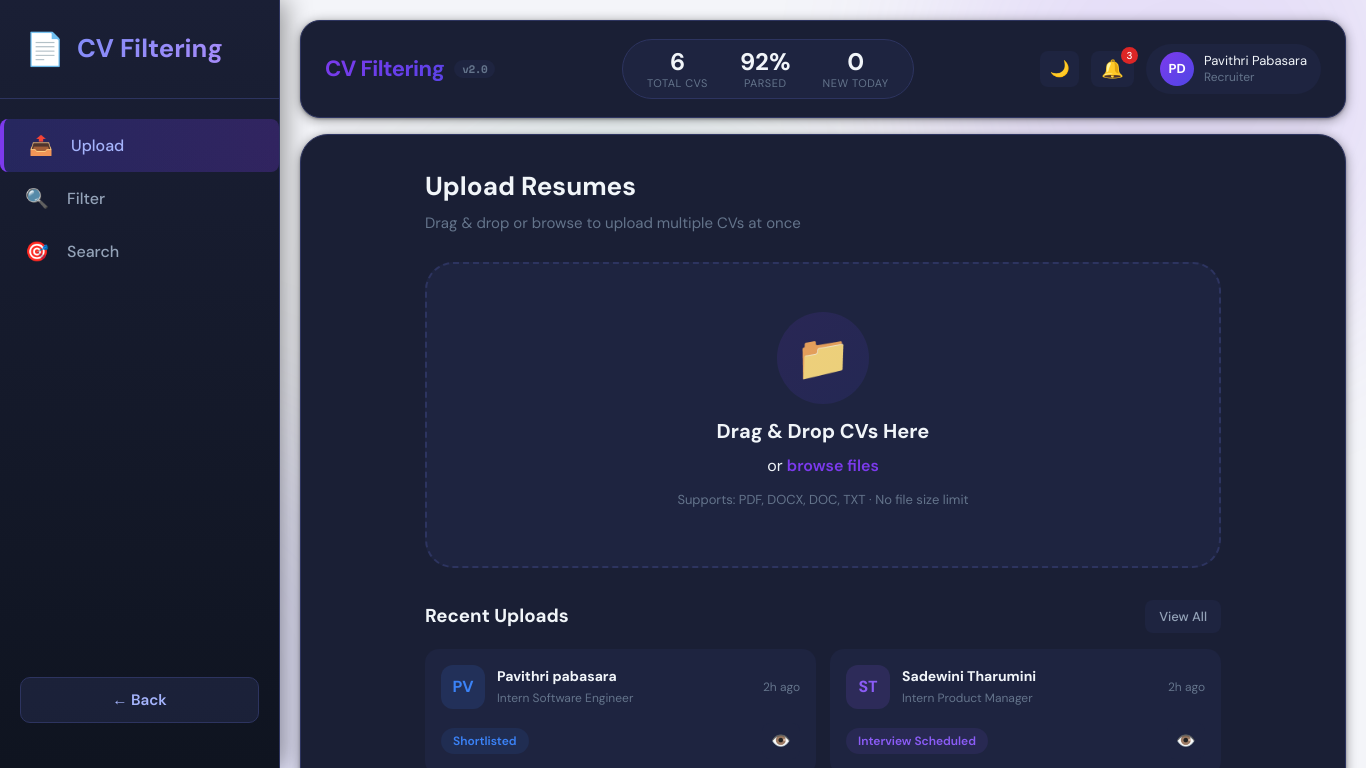
Test case: CVFiltering › applies position filters and shows the filtered candidate count
Click the button "🔍 Filter": (86, 198) [0, 172, 279, 225]
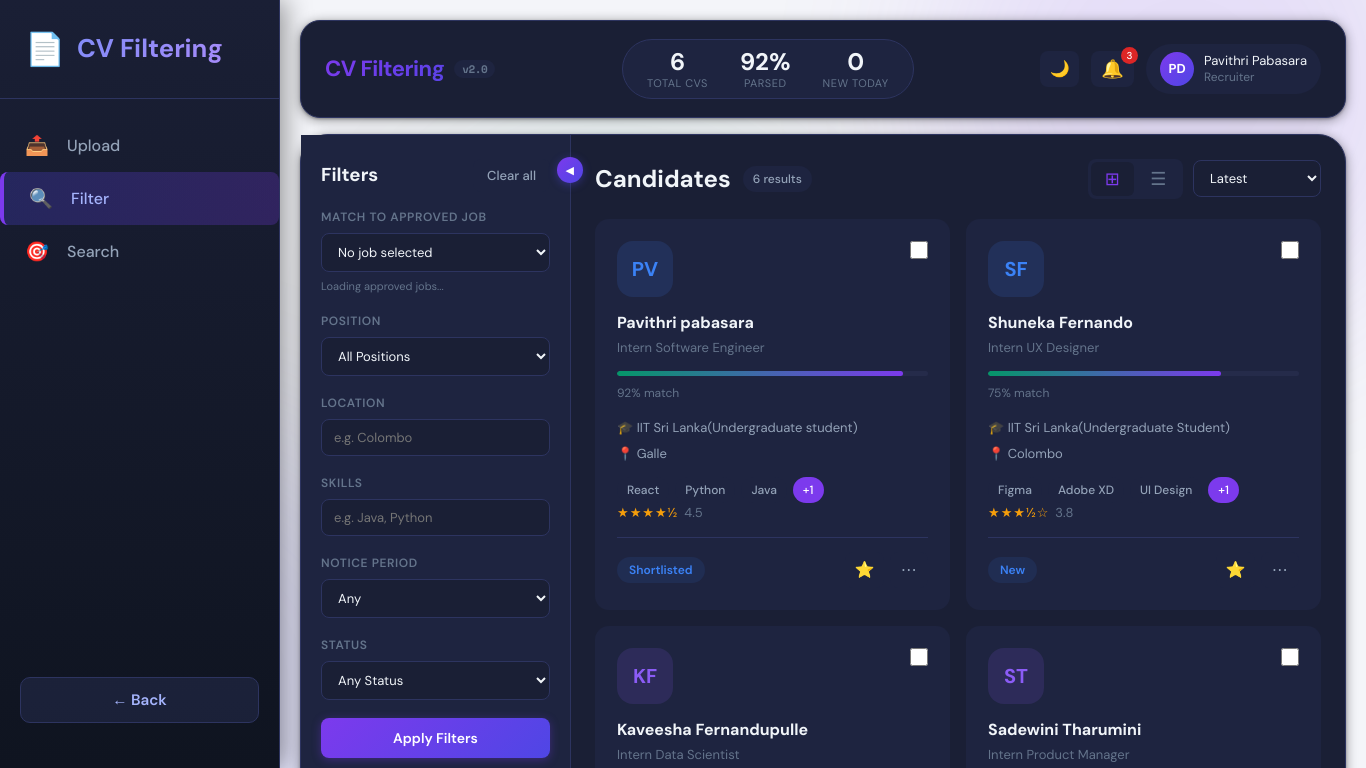
Select "Intern Data Scientist" in the dropdown named "position" below "Position": (436, 357) [321, 338, 550, 376]
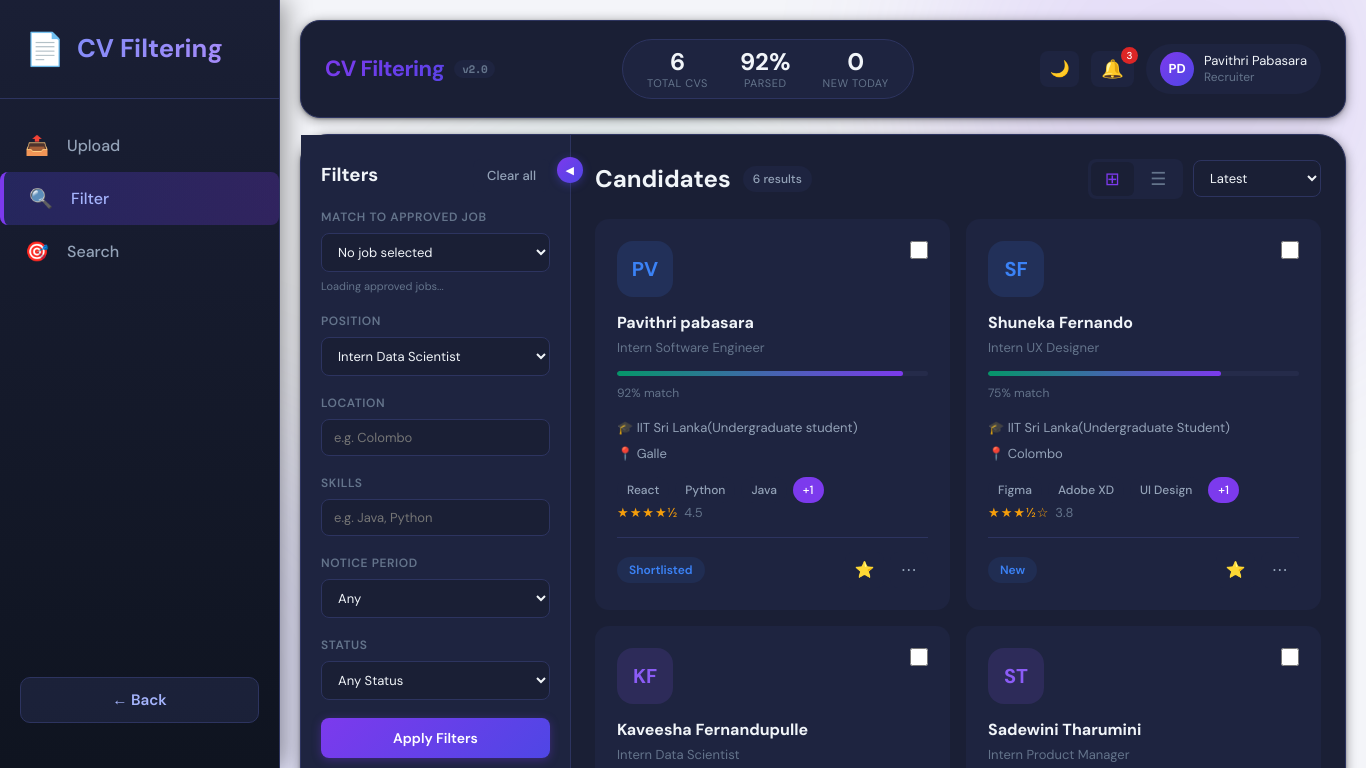
Click the button "Apply Filters": (436, 738) [321, 718, 550, 758]
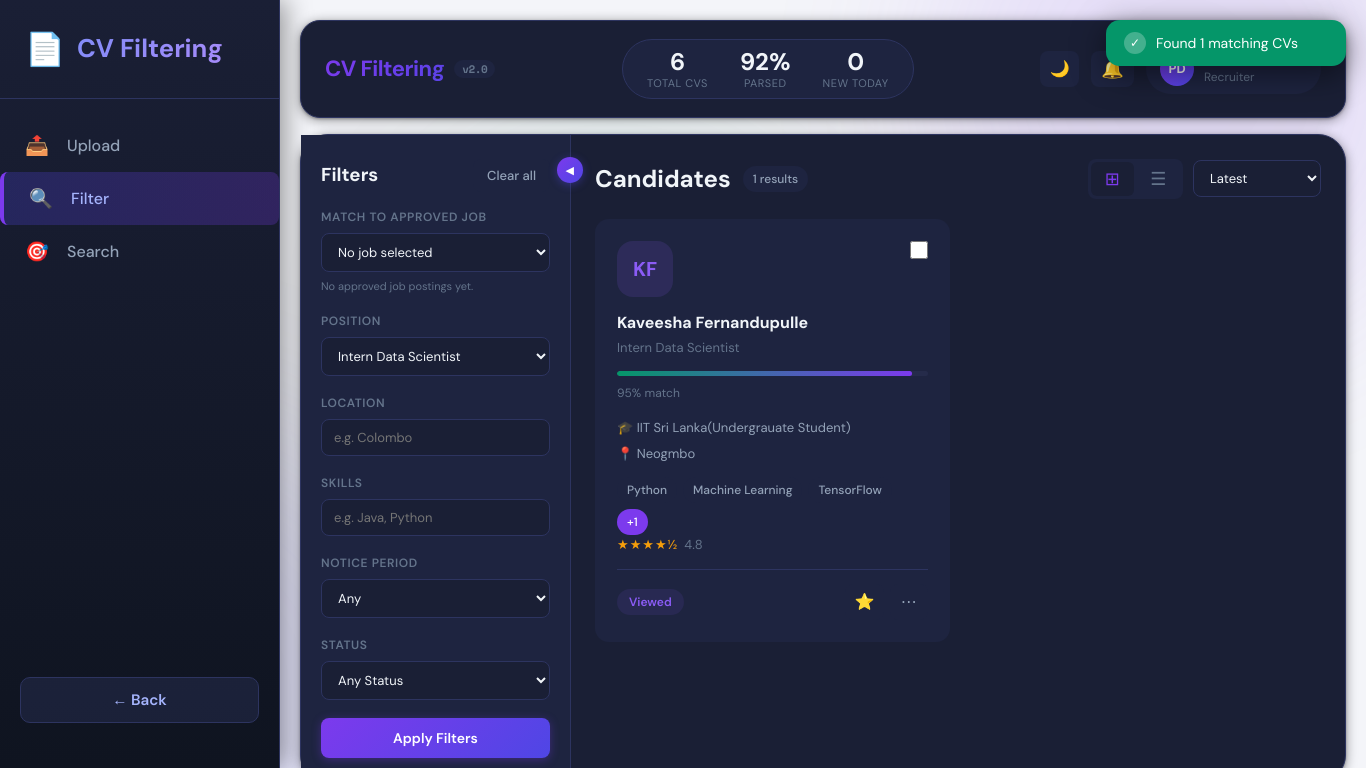
Expected: the heading "Kaveesha Fernandupulle" is shown, [617, 312, 808, 333]
Expected: the text "Found 1 matching CVs" is shown, [1156, 32, 1298, 54]
Expected: the text "1 results" is shown, [743, 166, 808, 192]
